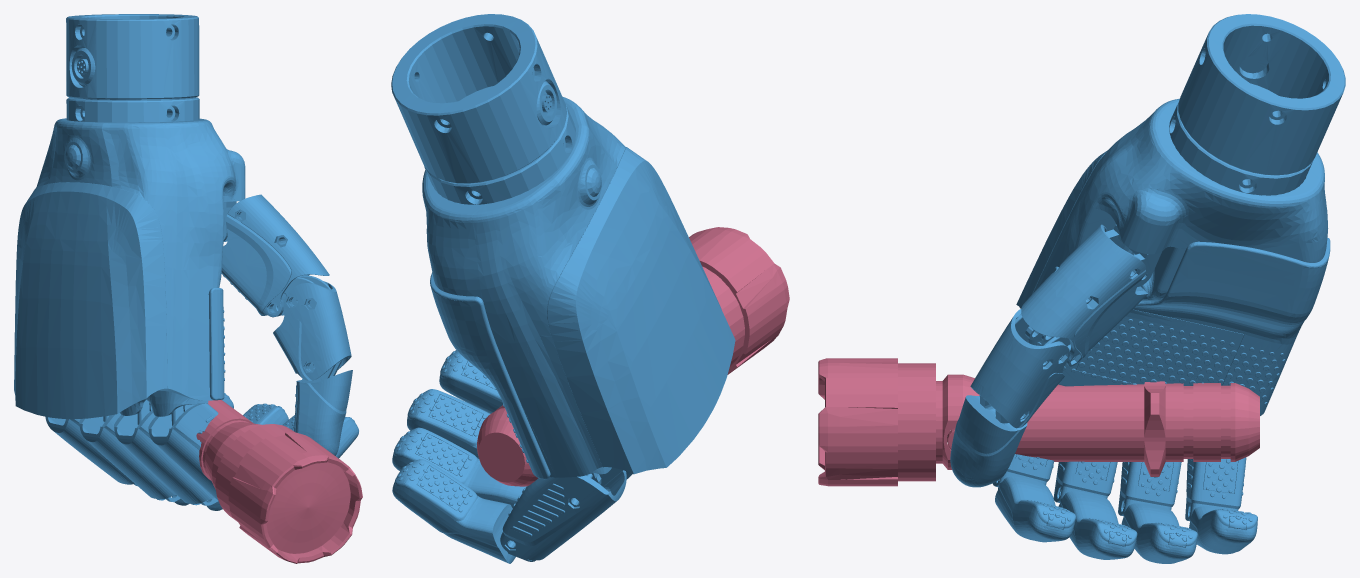
3 views of the same model, side by side, from view 1: azimuth 30°, elevation 25°; view 2: azimuth 150°, elevation 25°; view 3: azimuth 270°, elevation 25° (orthographic). The views are drawn at different scales.
Visible parts, largest first — view 1: 2; view 2: 2; view 3: 2.
Boxes of the visible parts, bbox=[...] form: 2: bbox=[14, 14, 362, 563]; 2: bbox=[391, 14, 789, 563]; 2: bbox=[818, 14, 1345, 563].
Size of the model in its own units: 0.1155 by 0.1938 by 0.1786.
